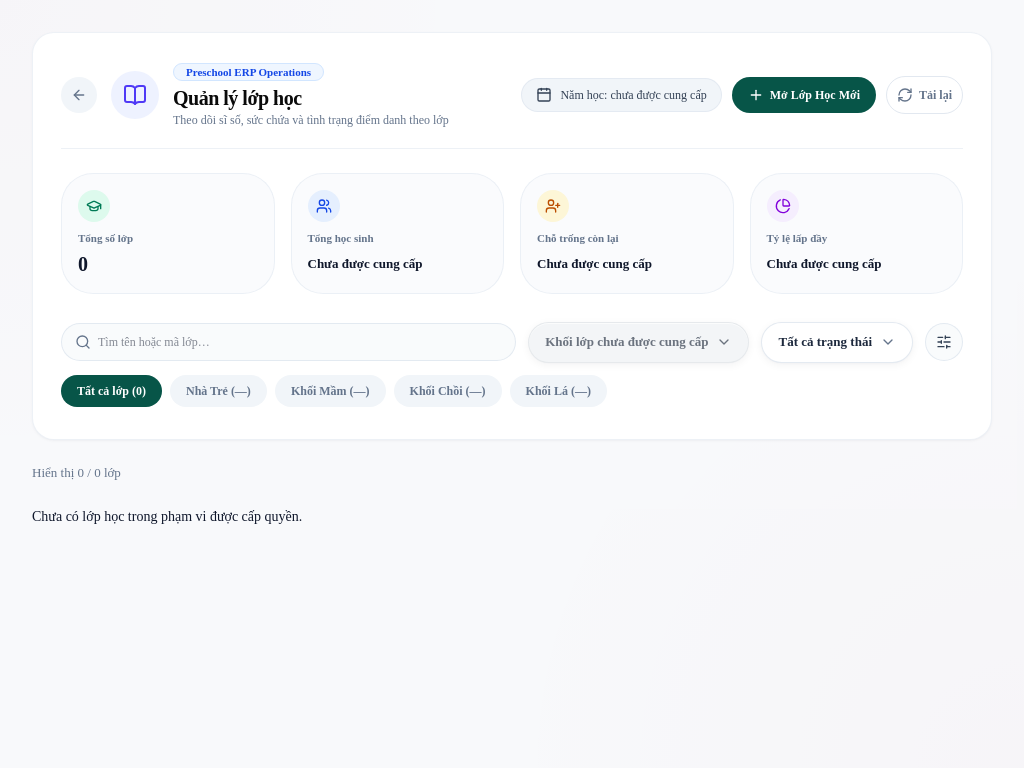
Test: submits exact input then links verified server identity and reloads catalog
The image size is (1024, 768).
Expected: the text "Chưa có lớp học trong phạm vi được cấp quyền." is shown, [32,509,302,524]
Click the button "Mở Lớp Học Mới".
click(804, 94)  # box [732,76,876,112]
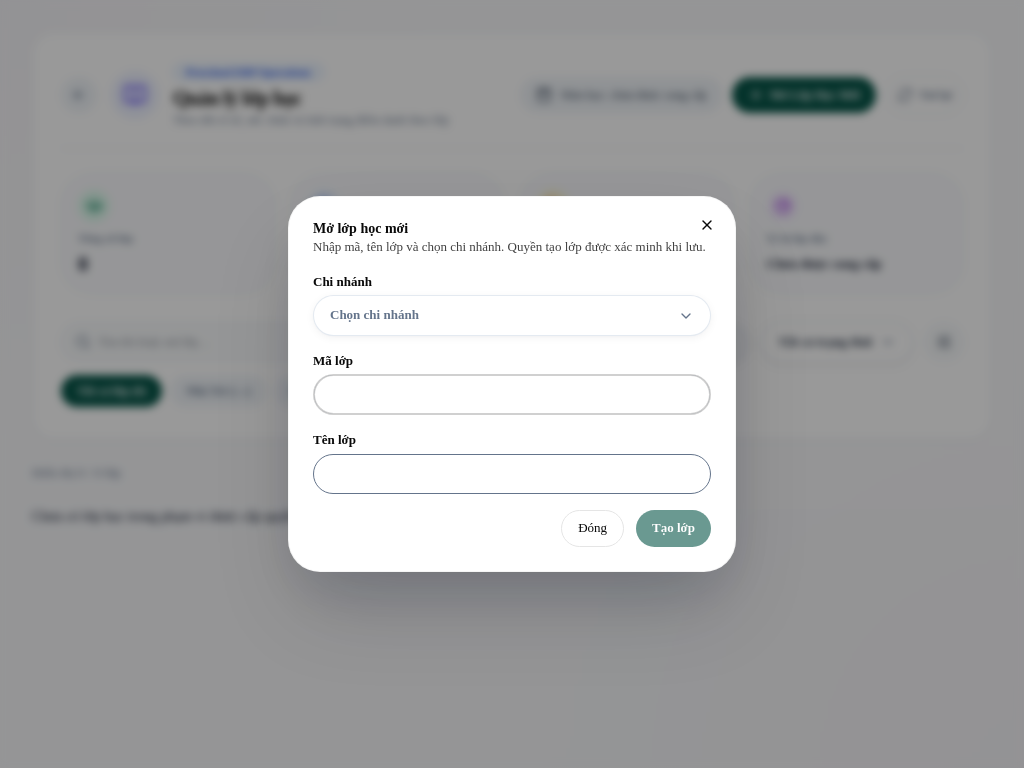
Select "Synthetic branch" in the dropdown labelled "Chi nhánh" at (512, 304), box [313,273,711,336]
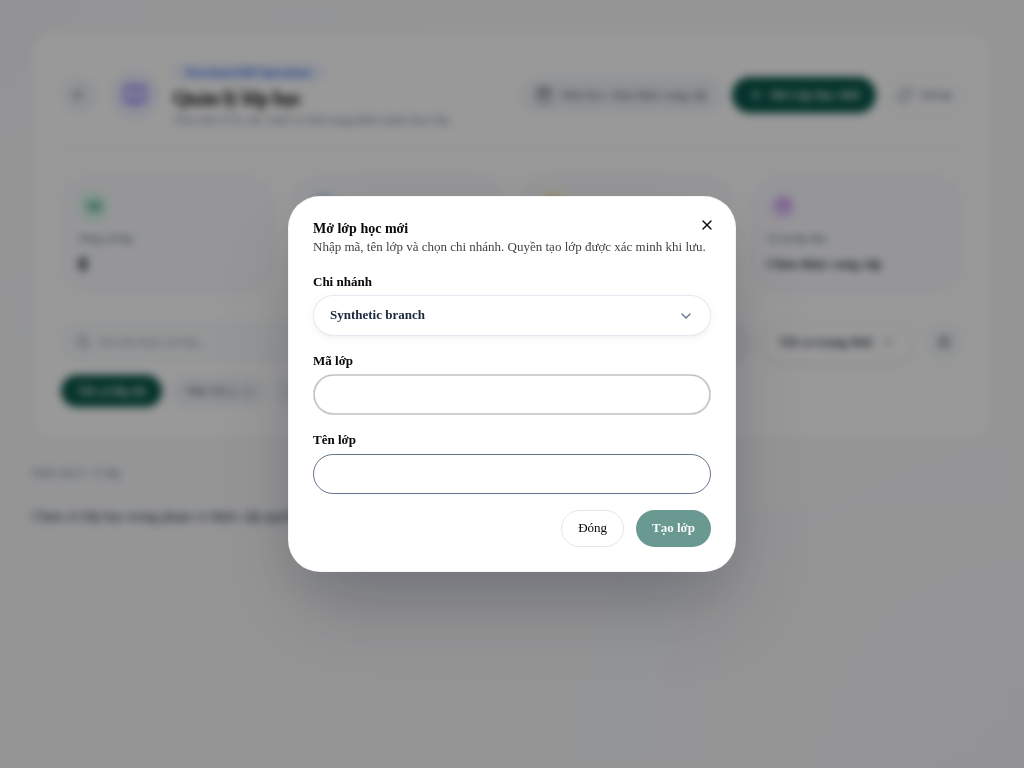
Type " syn-01 " into the field labelled "Mã lớp".
click(512, 395); type(" syn-01 ")  # box [313,374,711,415]
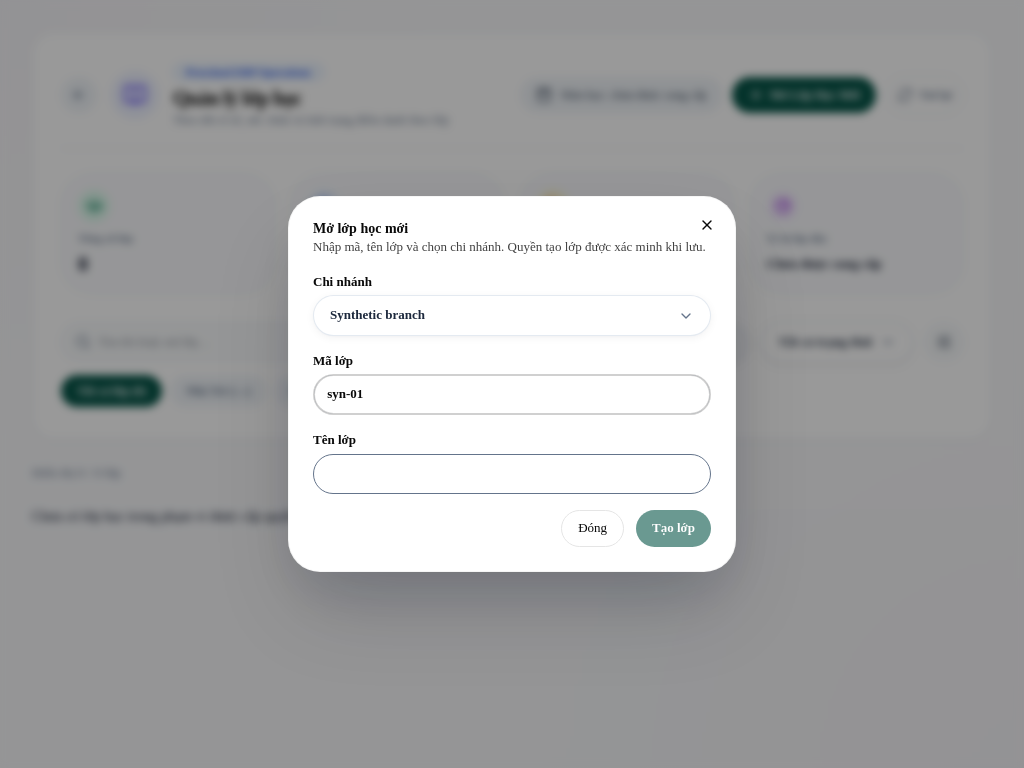
Type " Synthetic class " into the field labelled "Tên lớp".
click(512, 474); type(" Synthetic class ")  # box [313,454,711,494]
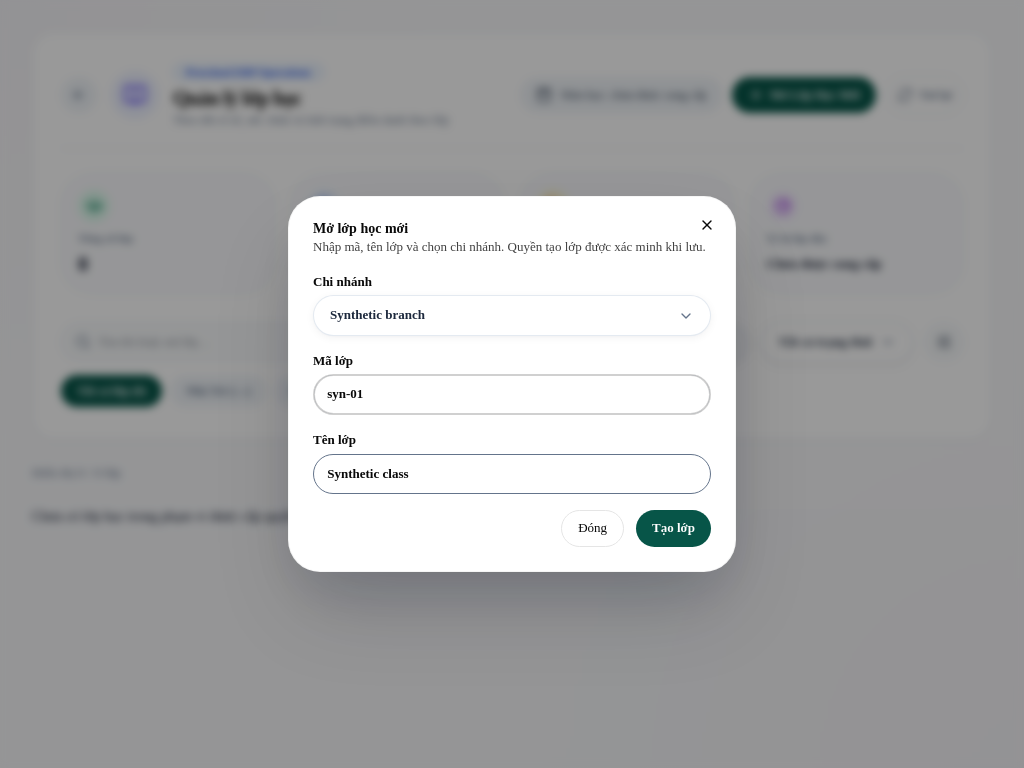
Click the button "Tạo lớp".
click(674, 528)  # box [636,510,711,547]
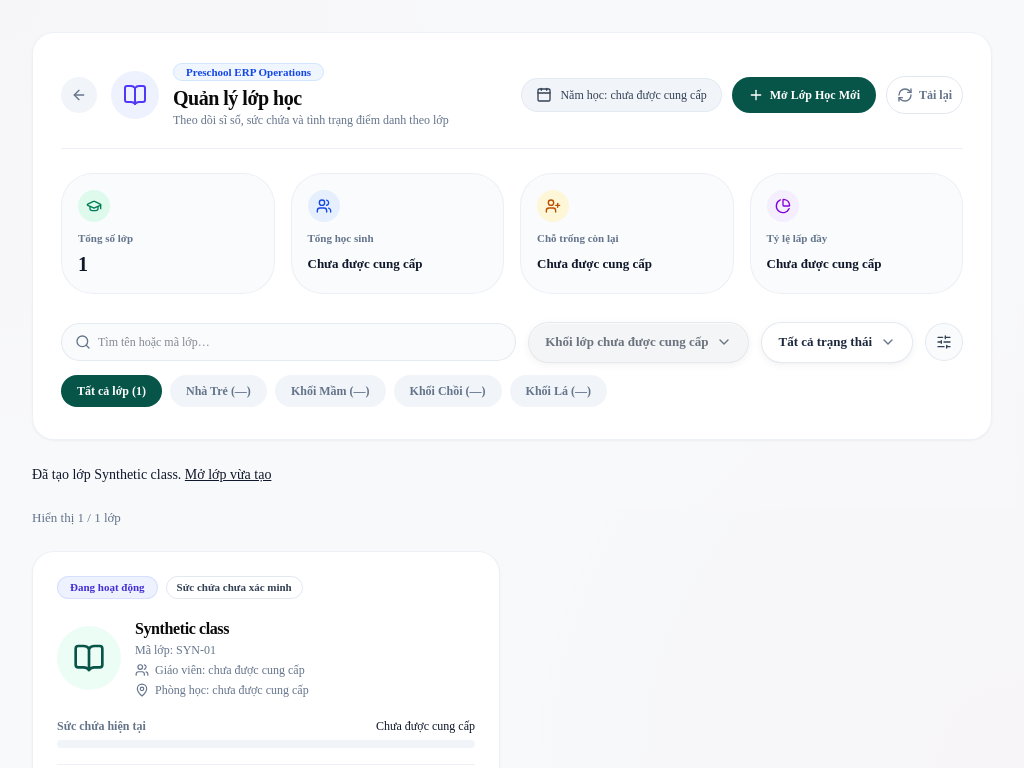
Now the heading "Synthetic class" is shown, box [135,620,229,637]
